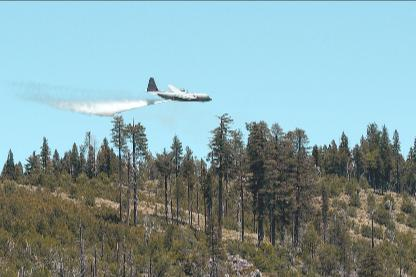Be200: (145, 77, 213, 102)
